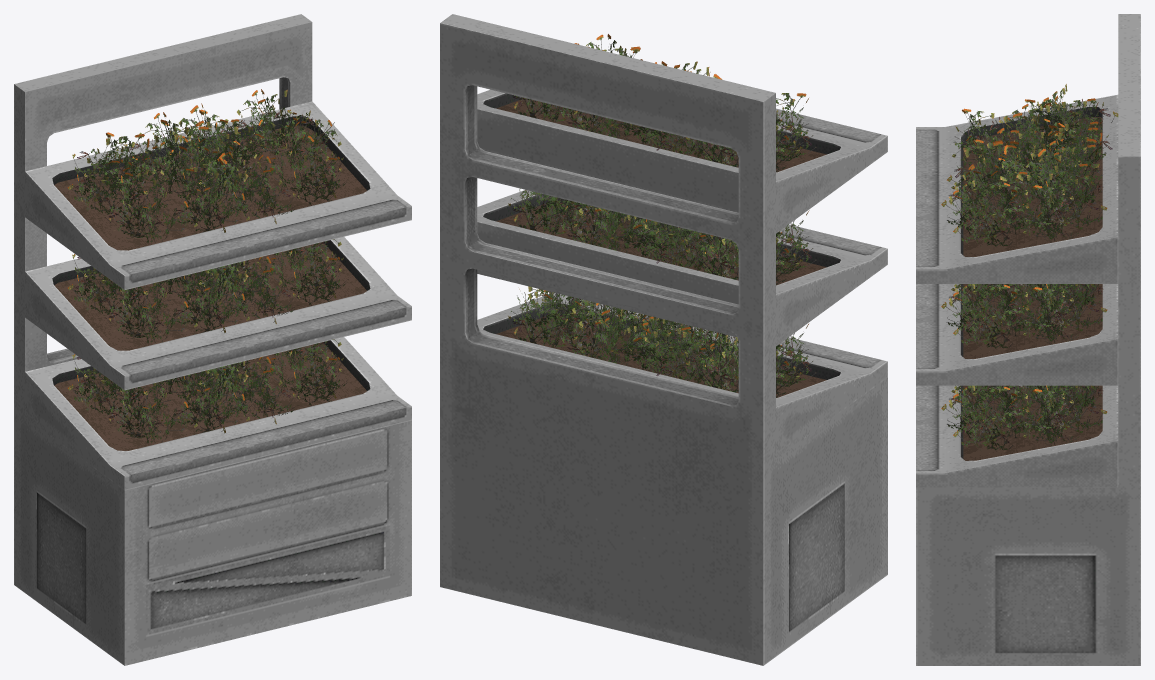
The model's file is SM_cockpitpot.glb.
The picture shows the model from 3 angles, left to right: view 1: azimuth 30°, elevation 25°; view 2: azimuth 150°, elevation 25°; view 3: azimuth 270°, elevation 25°; orthographic projection. The views are drawn at different scales.
Visible parts, largest first — view 1: Cube.002, Cube.003; view 2: Cube.002, Cube.003; view 3: Cube.002, Cube.003.
Boxes of the visible parts, x1,y1,x2,y2 form: Cube.002: (14,14,411,665); Cube.003: (54,89,366,450); Cube.002: (440,14,887,665); Cube.003: (496,34,826,397); Cube.002: (916,14,1140,665); Cube.003: (941,84,1118,460).
Bounding box in the file's own units: 3 × 5 × 2.
3 materials, 3 textured.
